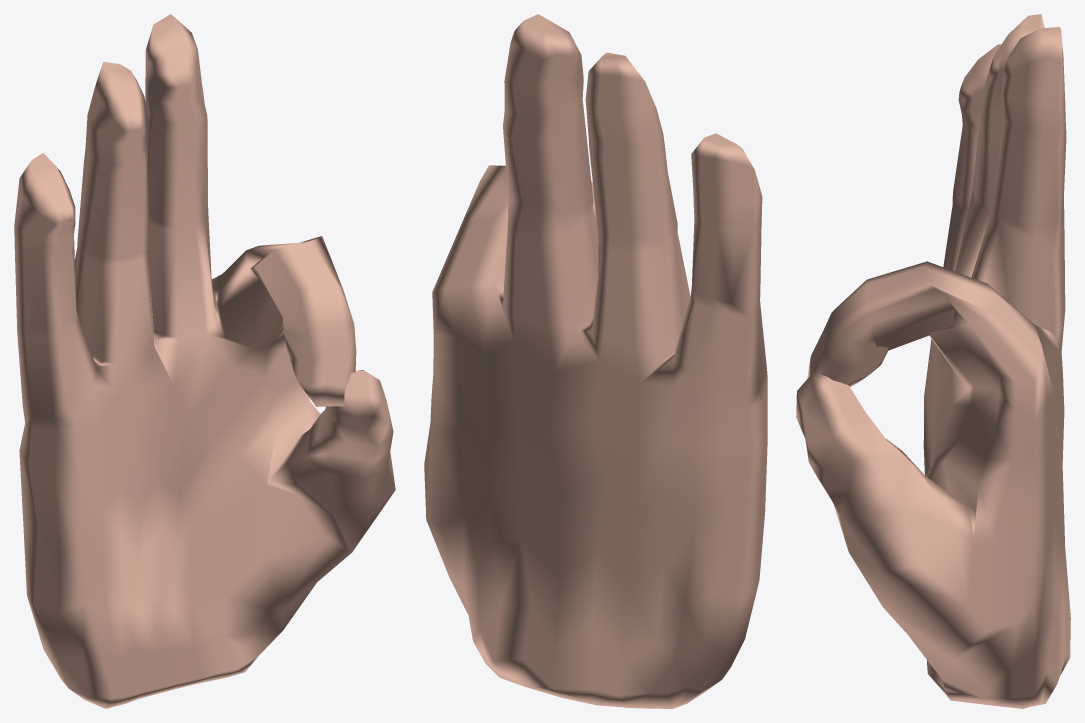
Rendered from MAO_CERTO.obj.
3 renders of one model, left to right at view 1: azimuth 30°, elevation 25°; view 2: azimuth 150°, elevation 25°; view 3: azimuth 270°, elevation 25°, orthographic. The views are drawn at different scales.
Parts seen in each view (by area): view 1: mao_dir:mao_dir; view 2: mao_dir:mao_dir; view 3: mao_dir:mao_dir.
Boxes of the visible parts, bbox=[...] form: mao_dir:mao_dir: bbox=[14, 14, 395, 708]; mao_dir:mao_dir: bbox=[424, 14, 767, 708]; mao_dir:mao_dir: bbox=[796, 14, 1070, 708].
Size of the model in its own units: 135 by 243 by 91.48.
